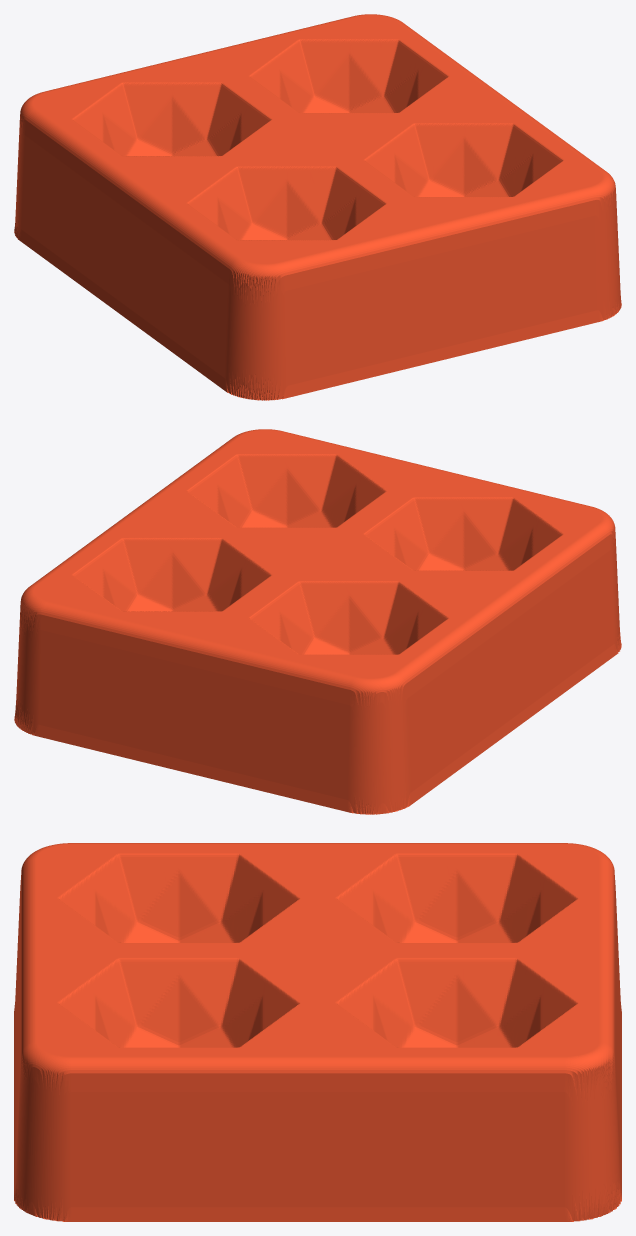
Rendered from mold.glb.
The picture shows the model from 3 angles, top to bottom: view 1: azimuth 30°, elevation 25°; view 2: azimuth 150°, elevation 25°; view 3: azimuth 270°, elevation 25°; orthographic projection. The views are drawn at different scales.
Visible parts, largest first — view 1: geometry_0; view 2: geometry_0; view 3: geometry_0.
Boxes of the visible parts, x1,y1,x2,y2 form: geometry_0: [14, 14, 621, 400]; geometry_0: [14, 429, 621, 814]; geometry_0: [14, 843, 621, 1221].
Bounding box in the file's own units: 0.0866 × 0.0272 × 0.0962.
